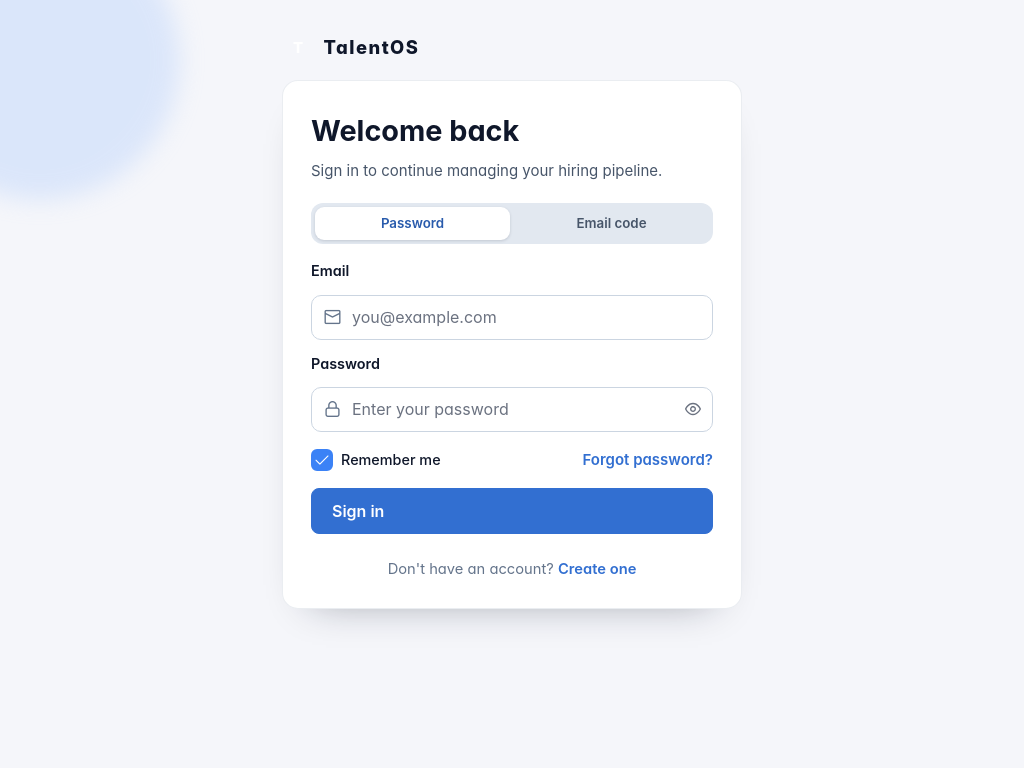
it: SignIn view: email code (OTP) › shows the server error for a wrong code and stays on the page
Click the tab "Email code".
click(612, 224)  # box [514,207,709,240]
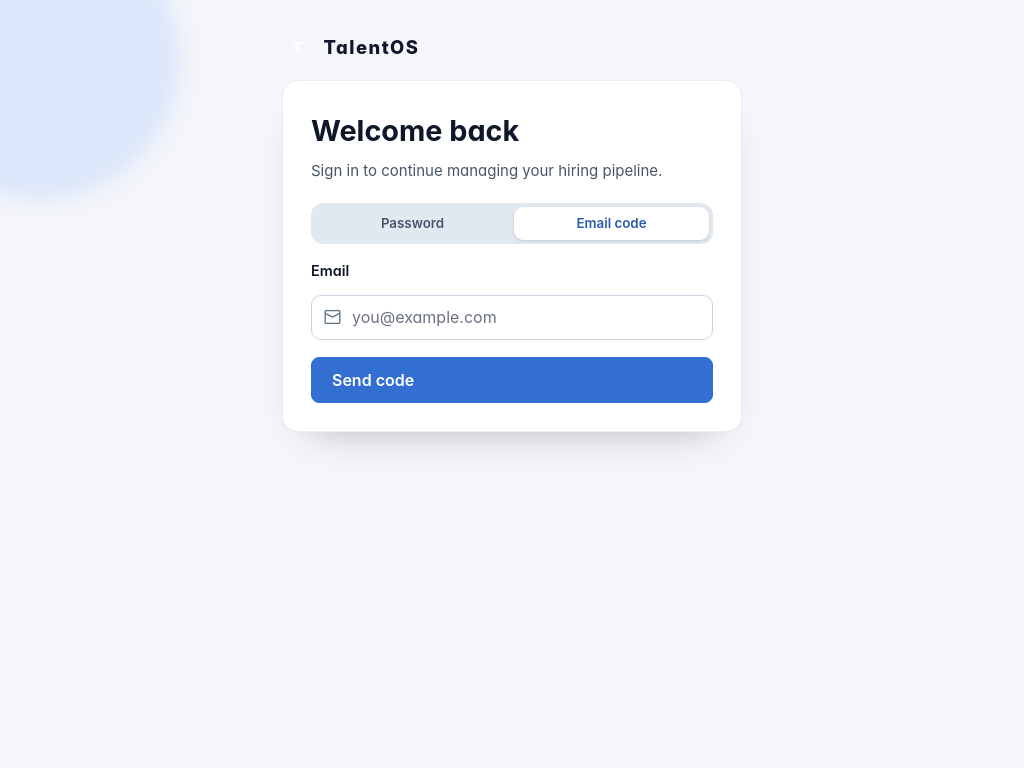
Type "ada@example.com" into the field with id "otp-email".
click(512, 317); type("ada@example.com")  # box [311,295,713,340]
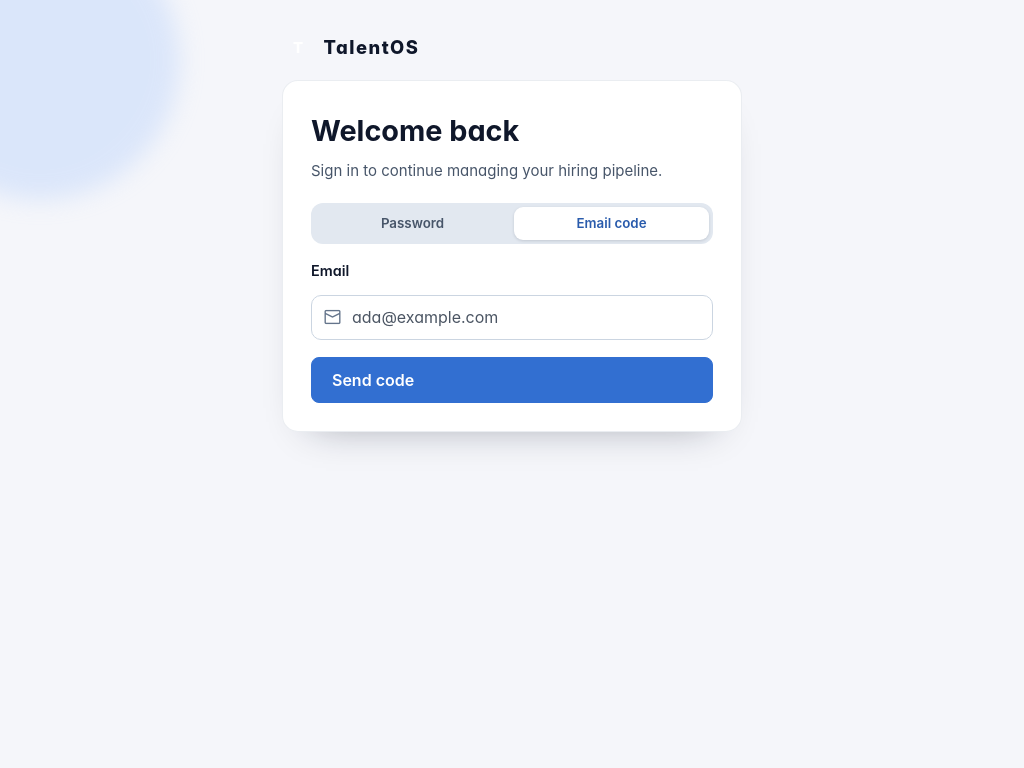
Submit the form, box [311,260,713,402]
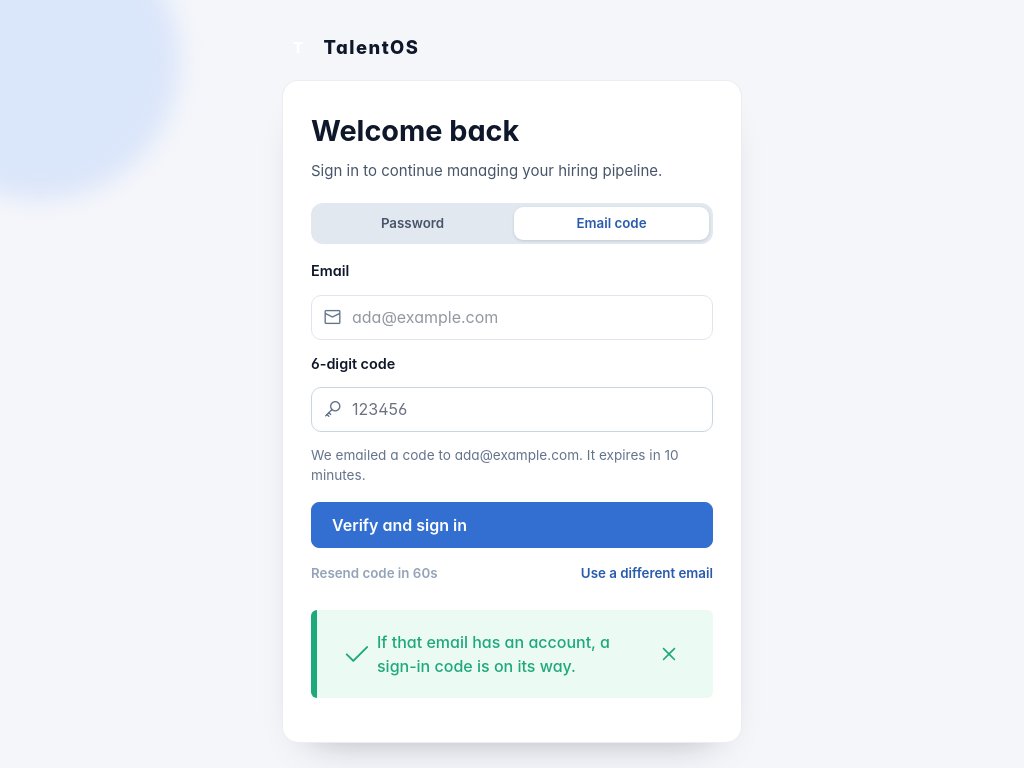
Type "000000" into the field with id "otp-code".
click(512, 409); type("000000")  # box [311,387,713,432]
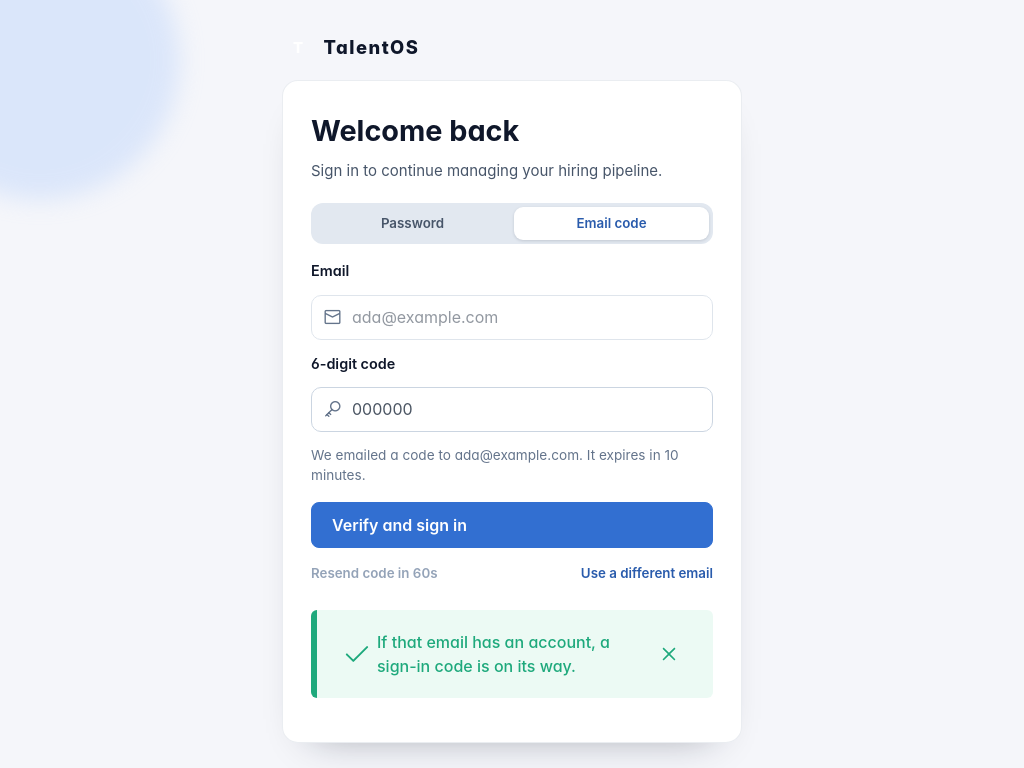
Submit the form, box [311,260,713,714]
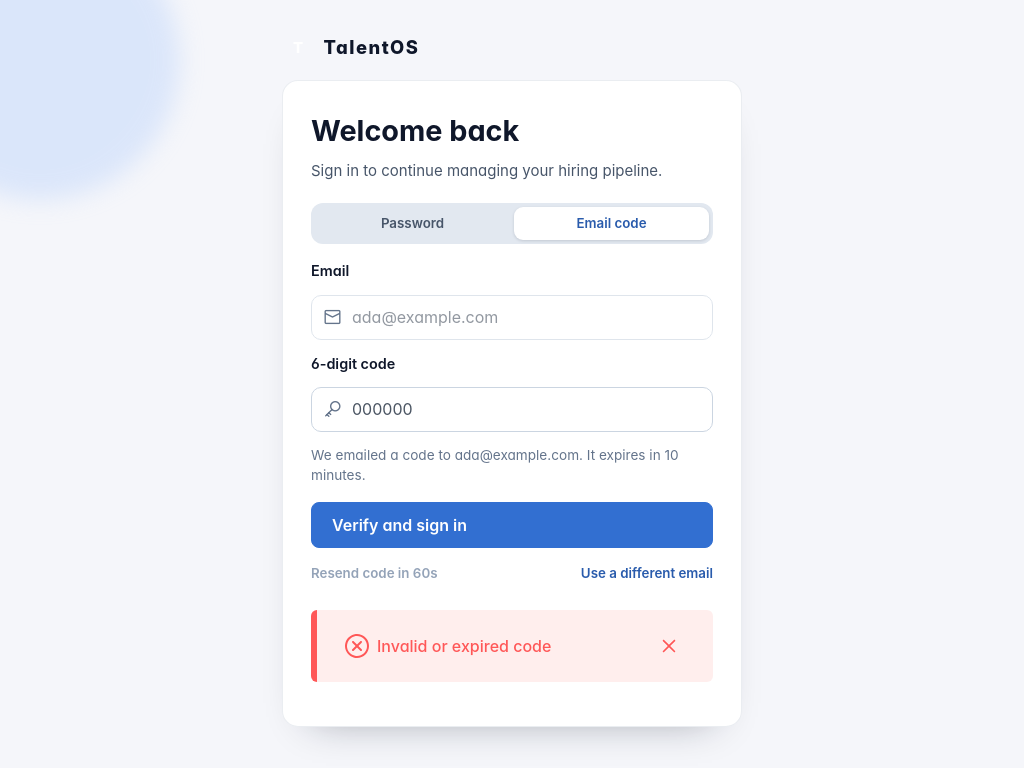
Expected: the text "Invalid or expired code" is shown, [377,634,551,658]
